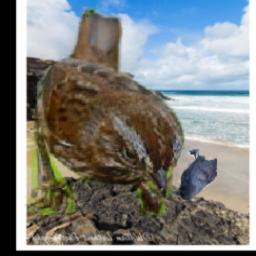Crow: (173, 150, 217, 201)
Sparrow: (24, 8, 187, 216)
